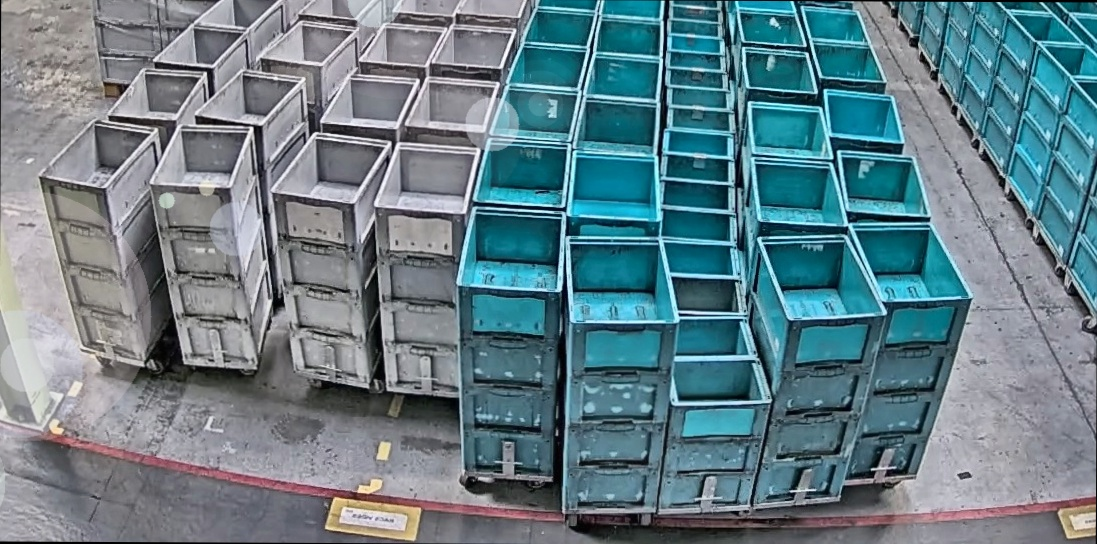4G: (36, 116, 173, 362), (268, 132, 394, 386), (148, 124, 276, 367), (372, 141, 483, 395)
B4: (745, 231, 887, 508), (845, 222, 976, 482), (559, 234, 681, 512), (455, 207, 569, 478)
B8: (656, 314, 773, 511)
